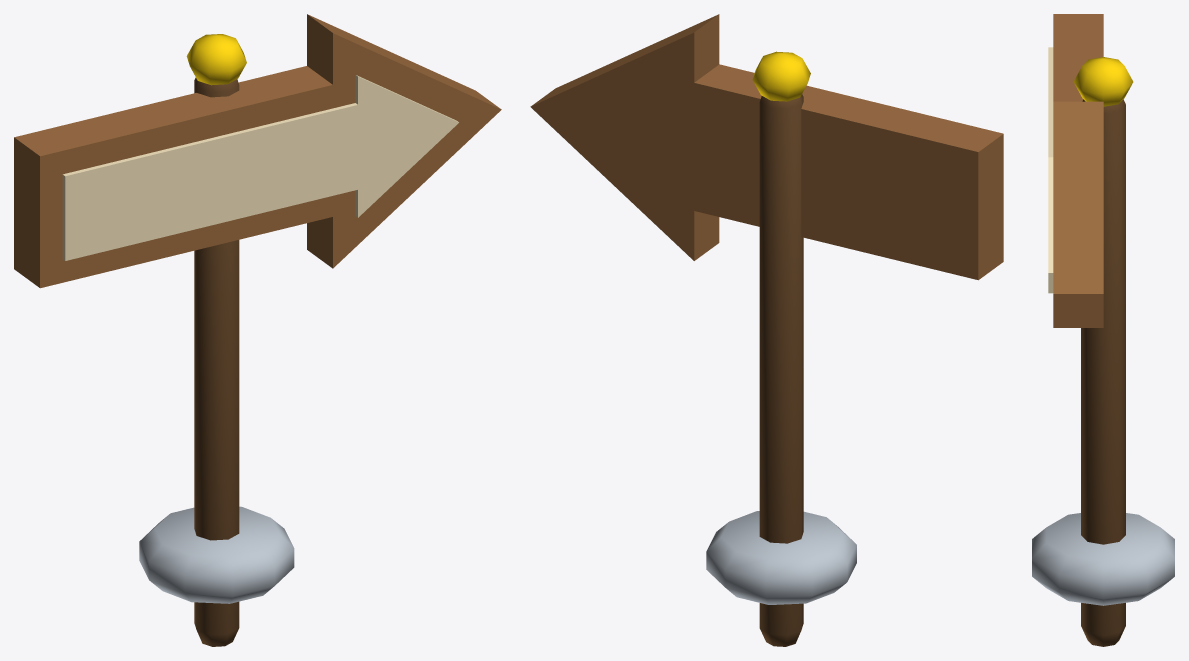
Rendered from Tutorial_ArrowSign.fbx.
3 renders of one model, left to right at view 1: azimuth 30°, elevation 25°; view 2: azimuth 150°, elevation 25°; view 3: azimuth 270°, elevation 25°, orthographic. The views are drawn at different scales.
Visible parts, largest first — view 1: Static, Panel; view 2: Static; view 3: Static, Panel.
Boxes of the visible parts, x1,y1,x2,y2 form: Static: [14, 14, 501, 646]; Panel: [62, 75, 458, 260]; Static: [530, 14, 1003, 646]; Static: [1032, 14, 1174, 646]; Panel: [1048, 47, 1053, 293].
Size of the model in its own units: 2.05 by 2.59 by 0.5706.
